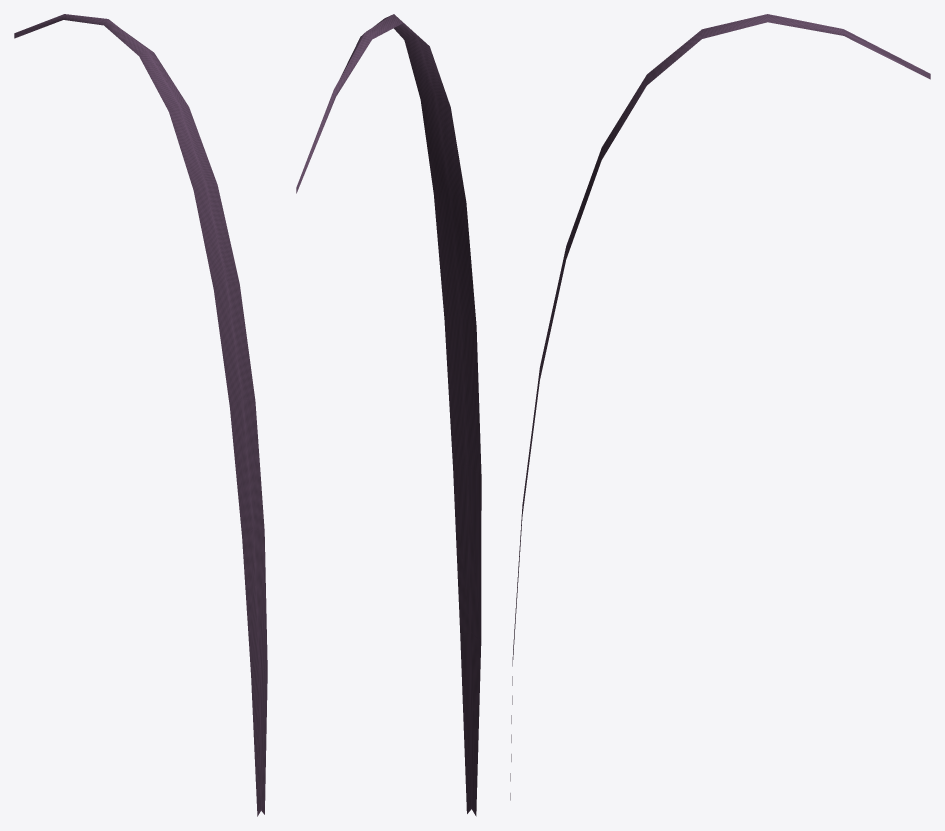
File: single_blade_02.glb
3 renders of one model, left to right at view 1: azimuth 30°, elevation 25°; view 2: azimuth 150°, elevation 25°; view 3: azimuth 270°, elevation 25°, orthographic. The views are drawn at different scales.
Parts seen in each view (by area): view 1: export; view 2: export; view 3: export.
Boxes of the visible parts, left/top/right/bottom form: export: left=14, top=14, right=267, bottom=816; export: left=296, top=14, right=481, bottom=816; export: left=510, top=14, right=930, bottom=800.
Size of the model in its own units: 0.0922 by 1.01 by 0.4904.
1 material, 1 textured.
